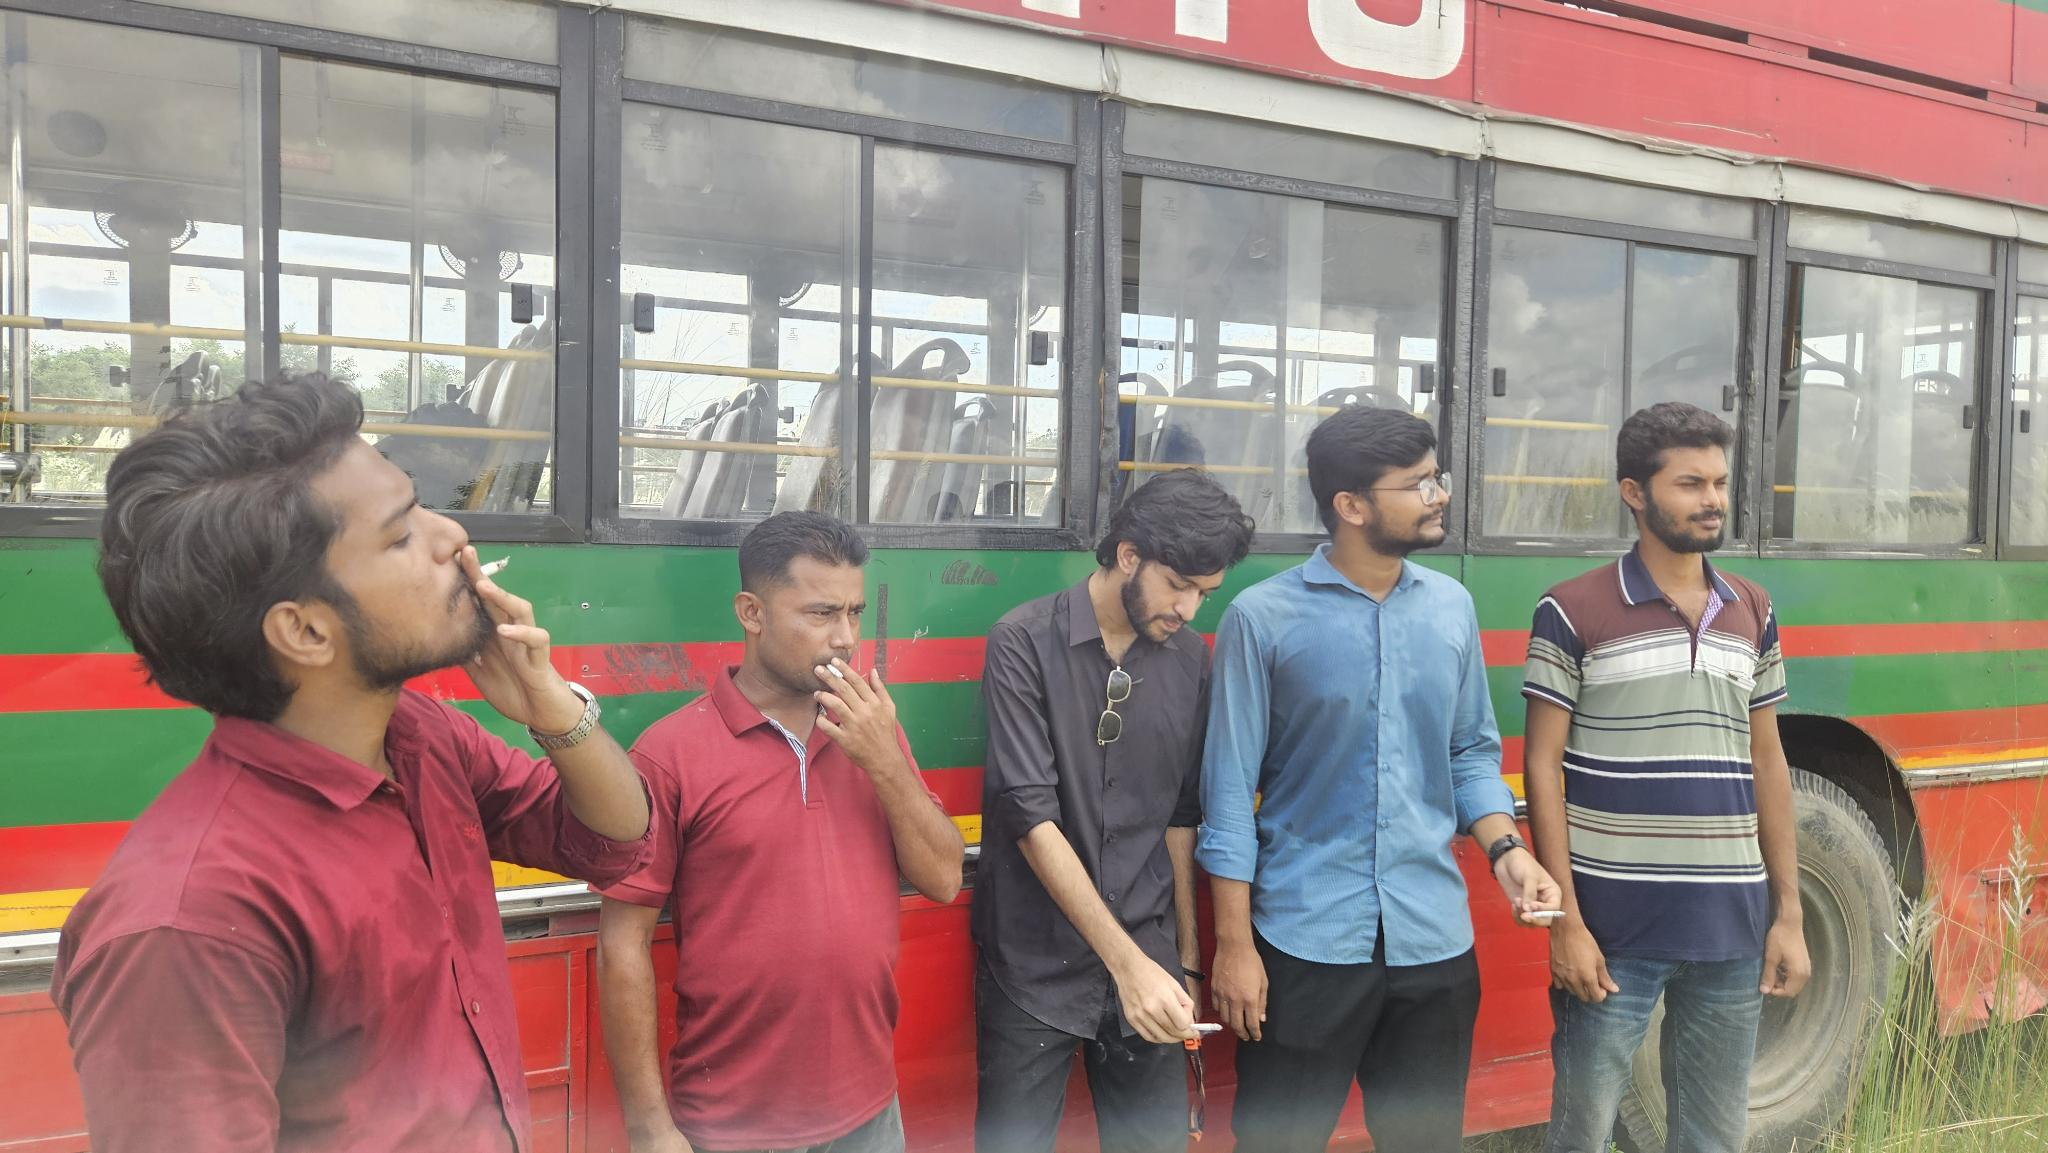cigarette: (475, 550, 513, 578), (1525, 908, 1567, 921), (1187, 1022, 1225, 1033), (824, 661, 845, 681)
nonSmoker: (1521, 399, 1812, 1153)
smoker: (60, 375, 657, 1153), (1204, 406, 1563, 1153), (589, 513, 964, 1153), (972, 461, 1250, 1153)
